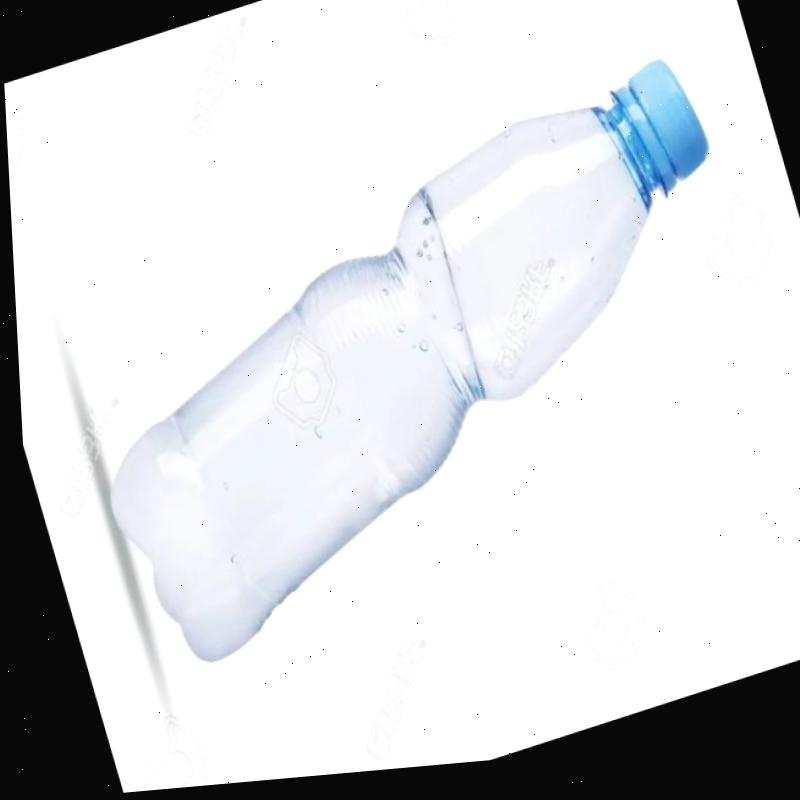botella: (29, 57, 800, 686)
